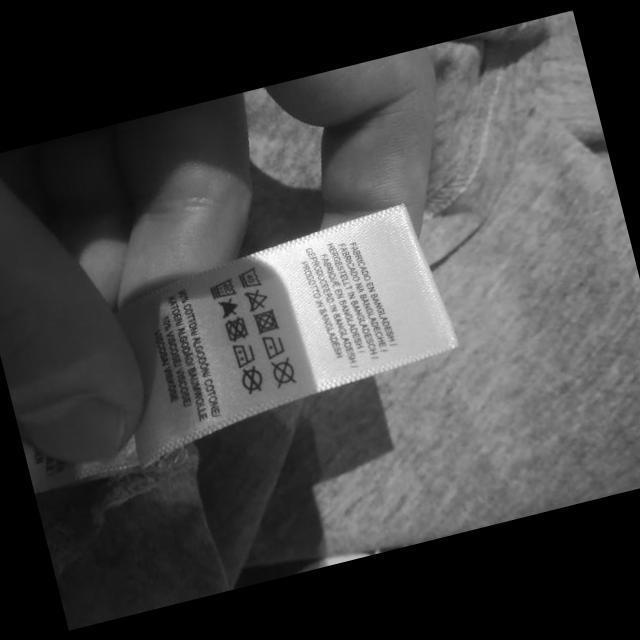40C: (205, 276, 238, 302), (235, 264, 262, 292)
DN_bleach: (241, 286, 270, 314), (214, 294, 241, 322)
DN_dry_clean: (267, 354, 298, 390), (236, 363, 266, 398)
DN_tumble_dry: (251, 306, 280, 336), (222, 314, 250, 344)
iron_low: (258, 332, 286, 361)
iron_medium: (230, 340, 256, 369)
